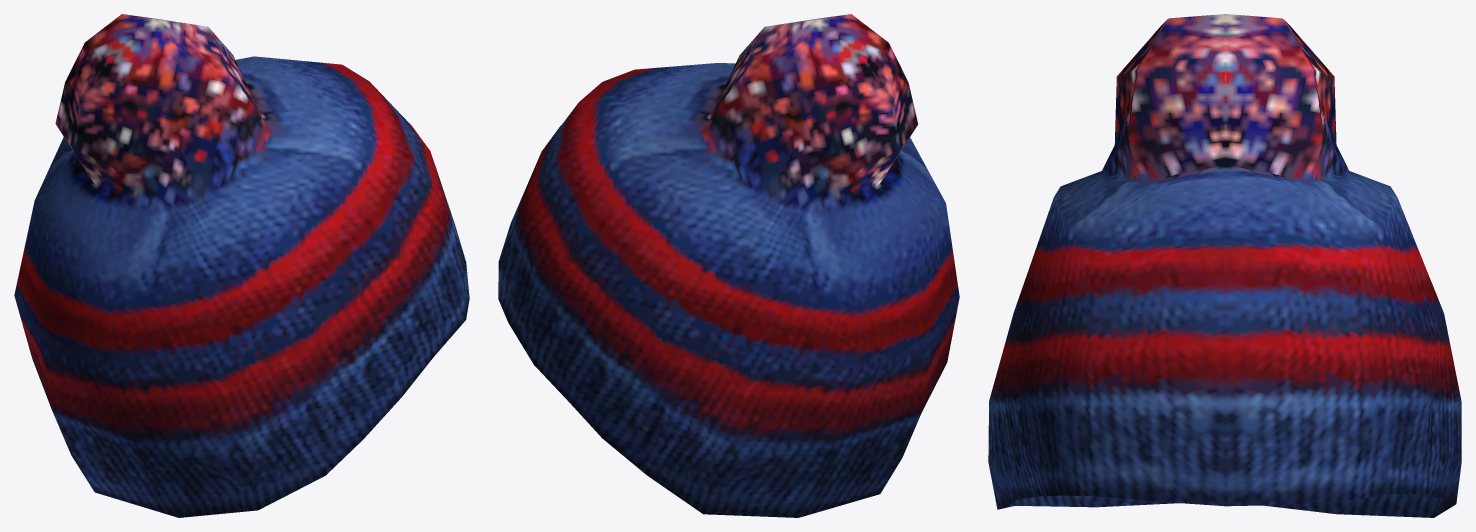
The model's file is hat_0450039.FBX.
3 renders of one model, left to right at view 1: azimuth 30°, elevation 25°; view 2: azimuth 150°, elevation 25°; view 3: azimuth 270°, elevation 25°, orthographic. The views are drawn at different scales.
Parts seen in each view (by area): view 1: hat_0450039; view 2: hat_0450039; view 3: hat_0450039.
Boxes of the visible parts, box(x1,y1,x2,y2) form: hat_0450039: box(14, 14, 469, 517); hat_0450039: box(498, 14, 959, 517); hat_0450039: box(988, 14, 1461, 517).
Size of the model in its own units: 24.91 by 27.4 by 22.46.
